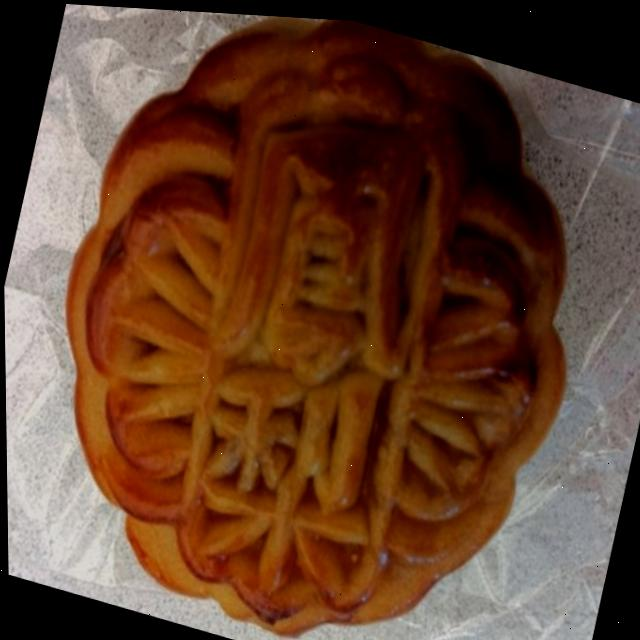蛋糕甜品: (4, 0, 637, 640)
